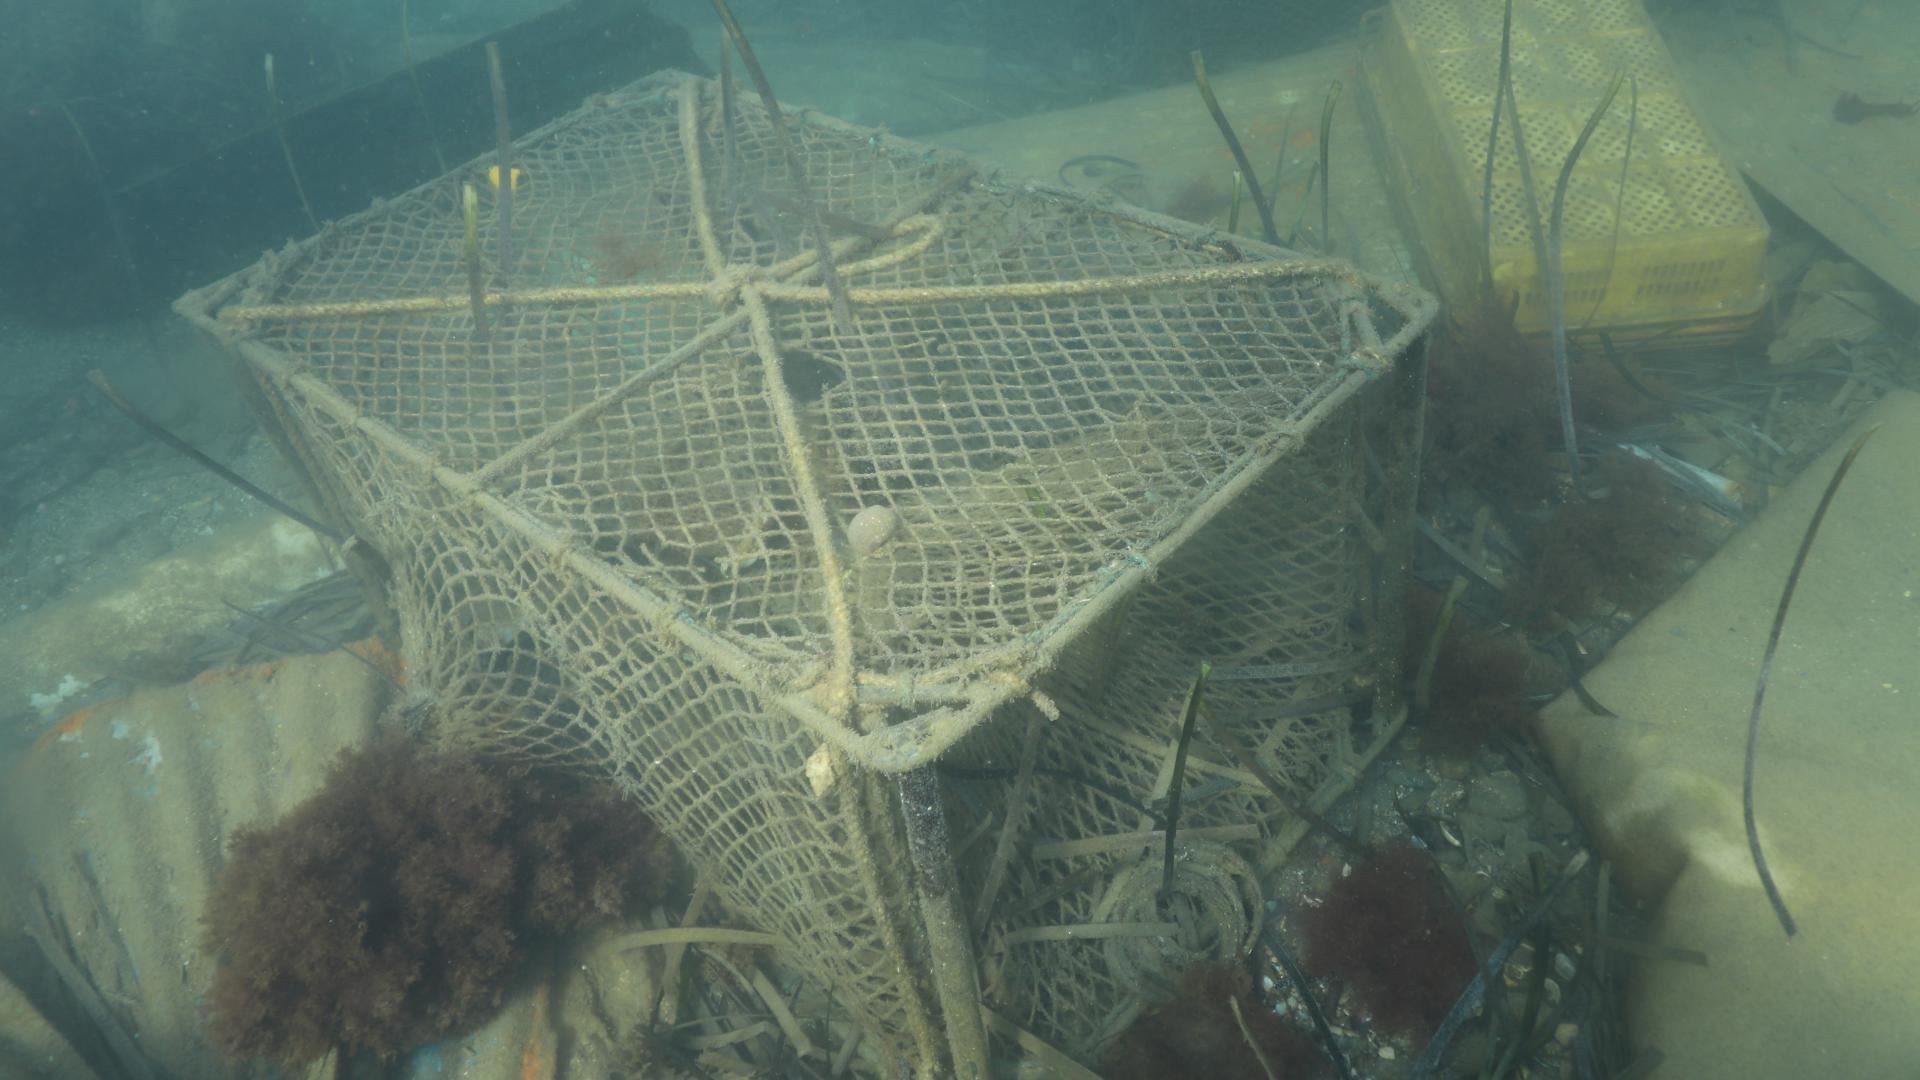rectangular fish trap: (171, 65, 1444, 1080)
